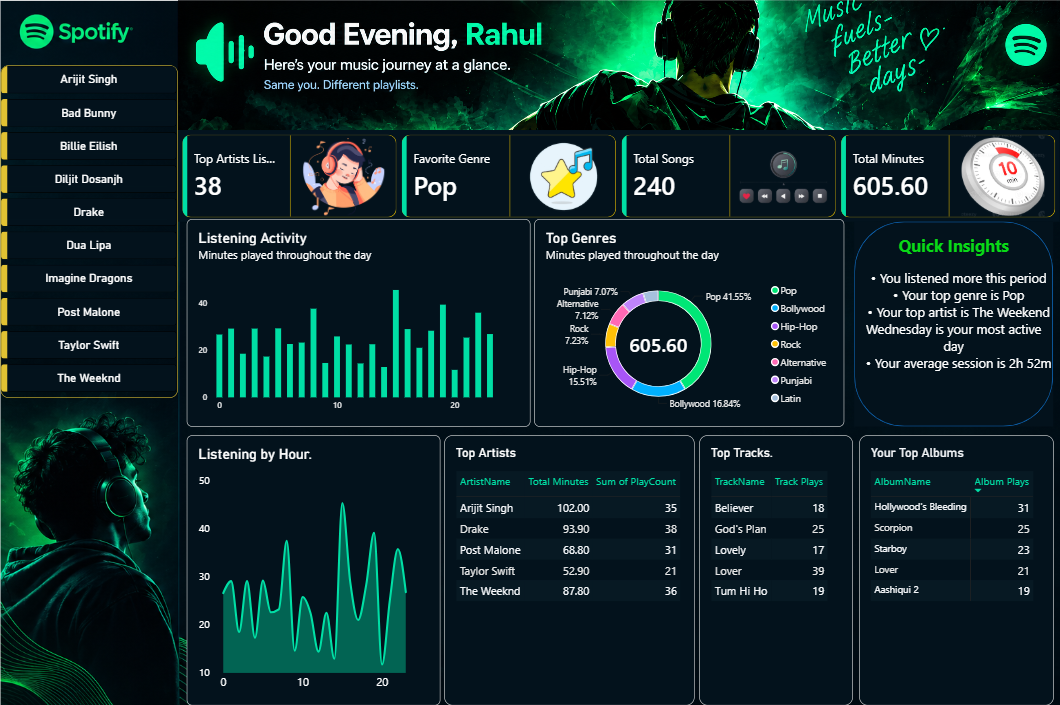

This screenshot's page, from the dashboard's own definition file:
{"tool":"powerbi","page":{"name":"Page 1","canvas":[1920,1080],"ordinal":0},"visuals":[{"type":"image","box":[448.8,23.5,1279.4,188.2],"z":0},{"type":"cardVisual","fields":{"Data":["Albums.Top Artists Listens","Albums.Favorite Genre","Albums.Total Songs Played","Albums.Total Minutes Played"]},"box":[448.8,211.7,1279.4,132.1],"z":1000},{"type":"advancedSlicerVisual","fields":{"Values":["Albums.ArtistName"]},"box":[191.8,117.6,257,481.4],"z":2000},{"type":"clusteredColumnChart","title":"Listening Activity","fields":{"Category":["Playback.Hour"],"Y":["Sum(Playback.MinutesPlayed)"]},"box":[461.5,340.2,497.7,300.4],"z":3000},{"type":"donutChart","title":"Top Genres","fields":{"Category":["Playback.Genre"],"Y":["Albums.Total Minutes "]},"box":[964.5,340.2,448.8,300.4],"z":4000},{"type":"tableEx","title":"Top Artists","fields":{"Values":["Artists.ArtistName","Albums.Total Minutes ","Sum(Playback.PlayCount)"]},"box":[833.6,652.5,362.3,391.1],"z":5000},{"type":"tableEx","title":"Top Tracks.","fields":{"Values":["Tracks.TrackName","Tracks.Track Plays"]},"box":[1204.1,652.5,222.3,391.1],"z":6000},{"type":"pivotTable","title":"Your Top Albums","fields":{"Rows":["Albums.AlbumName"],"Values":["Albums.Album Plays"]},"box":[1434.7,652.5,282,391.1],"z":7000},{"type":"textbox","box":[1738,24,182,188],"z":8000},{"type":"textbox","box":[1427.8,345.6,287.7,295],"z":9000},{"type":"shape","box":[1427.8,343.8,287.7,296.8],"z":10000},{"type":"textbox","box":[1427.8,343.8,287.7,296.8],"z":11000},{"type":"areaChart","title":"Listening by Hour.","fields":{"Category":["Playback.Hour"],"Y":["Sum(Playback.MinutesPlayed)"]},"box":[461.5,653.3,367.4,390.9],"z":12000}]}

Visuals, with their boxes on the page's 1920x1080 design canvas (x1, y1, x2, y2). These are canvas units, not pixel positions in the 1060x705 screenshot, which may show the page scaled, cropped or inside an application window:
image: (449, 24, 1728, 212)
cardVisual - Albums.Top Artists Listens x Albums.Favorite Genre: (449, 212, 1728, 344)
advancedSlicerVisual - Albums.ArtistName: (192, 118, 449, 599)
"Listening Activity" clusteredColumnChart: (462, 340, 959, 641)
"Top Genres" donutChart: (964, 340, 1413, 641)
"Top Artists" tableEx: (834, 652, 1196, 1044)
"Top Tracks." tableEx: (1204, 652, 1426, 1044)
"Your Top Albums" pivotTable: (1435, 652, 1717, 1044)
textbox: (1738, 24, 1920, 212)
textbox: (1428, 346, 1716, 641)
shape: (1428, 344, 1716, 641)
textbox: (1428, 344, 1716, 641)
"Listening by Hour." areaChart: (462, 653, 829, 1044)
